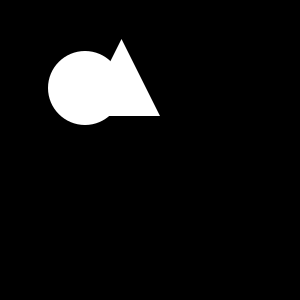rectangle: (48, 51, 122, 125)
triangle: (83, 39, 160, 116)
